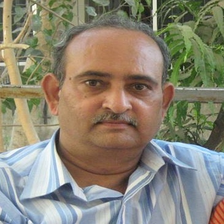no_mask: (62, 37, 167, 156)
